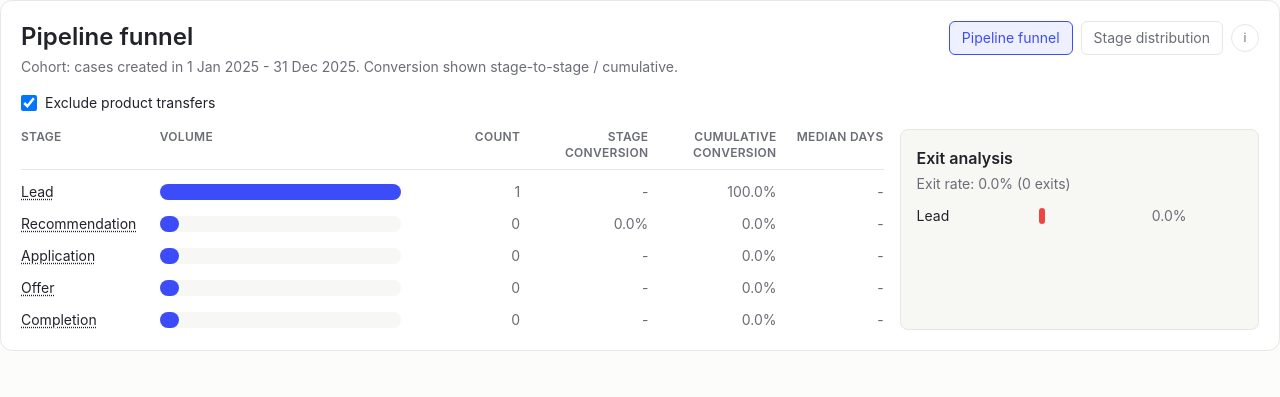
Test: FunnelPanel › renames the section heading when switched to stage distribution
Expected: the heading "Pipeline funnel" is shown, [21,22,193,51]
Click the button "Stage distribution" at (1152, 38), box [1081,21,1223,55]
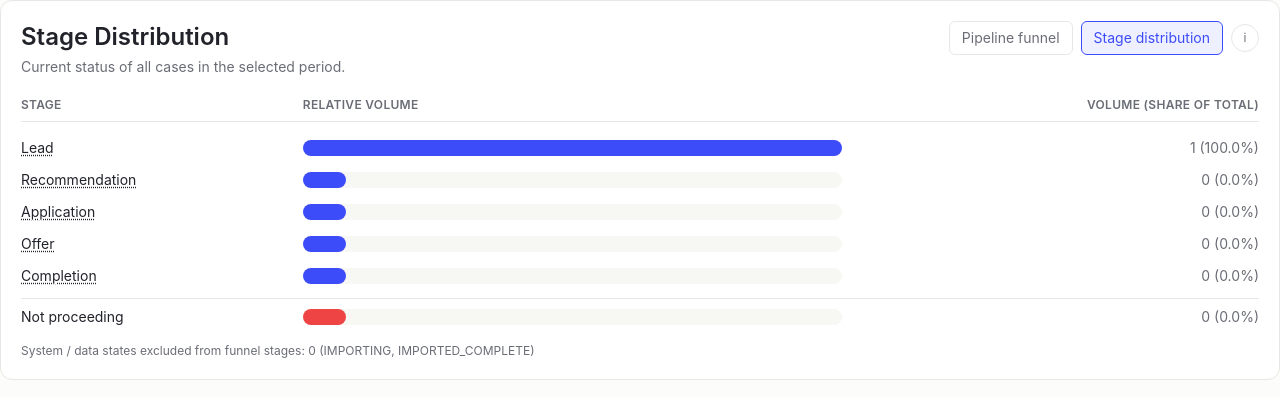
Result: the heading "Stage Distribution" is shown at [21,22,229,51]
